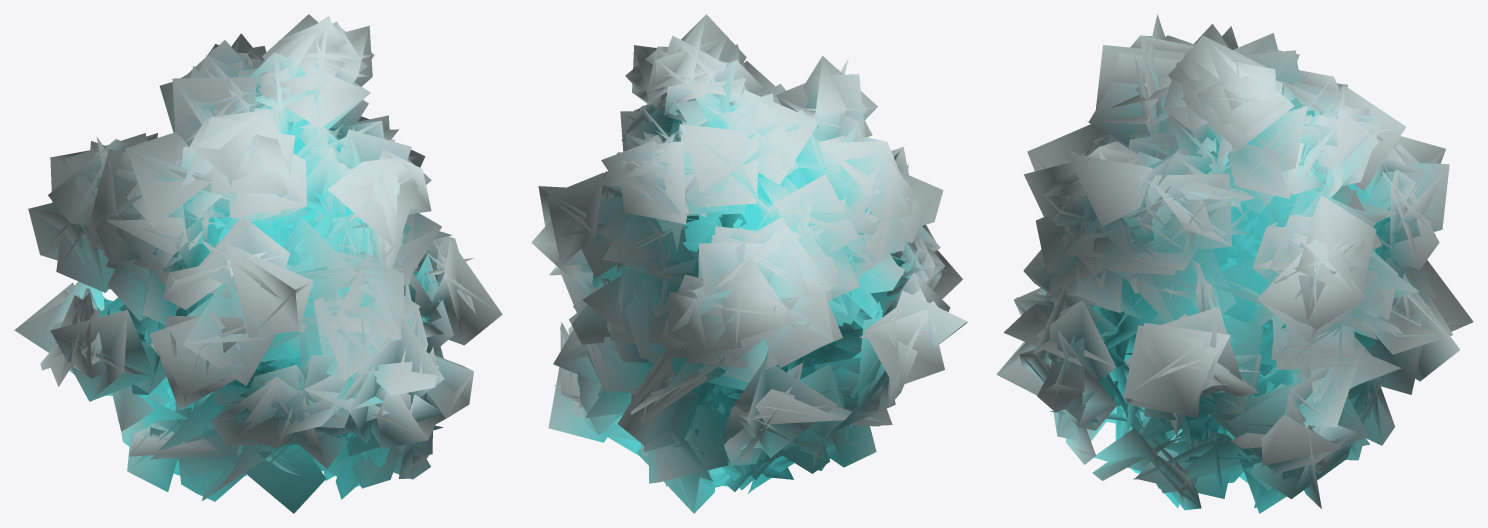
The model's file is 7Tree.fbx.
The picture shows the model from 3 angles, left to right: view 1: azimuth 30°, elevation 25°; view 2: azimuth 150°, elevation 25°; view 3: azimuth 270°, elevation 25°; orthographic projection. The views are drawn at different scales.
Parts seen in each view (by area): view 1: LOD0; view 2: LOD0; view 3: LOD0.
Boxes of the visible parts, left/top/right/bottom form: LOD0: left=14, top=14, right=502, bottom=513; LOD0: left=531, top=14, right=967, bottom=513; LOD0: left=996, top=14, right=1473, bottom=513.
Size of the model in its own units: 170 by 188 by 171.
